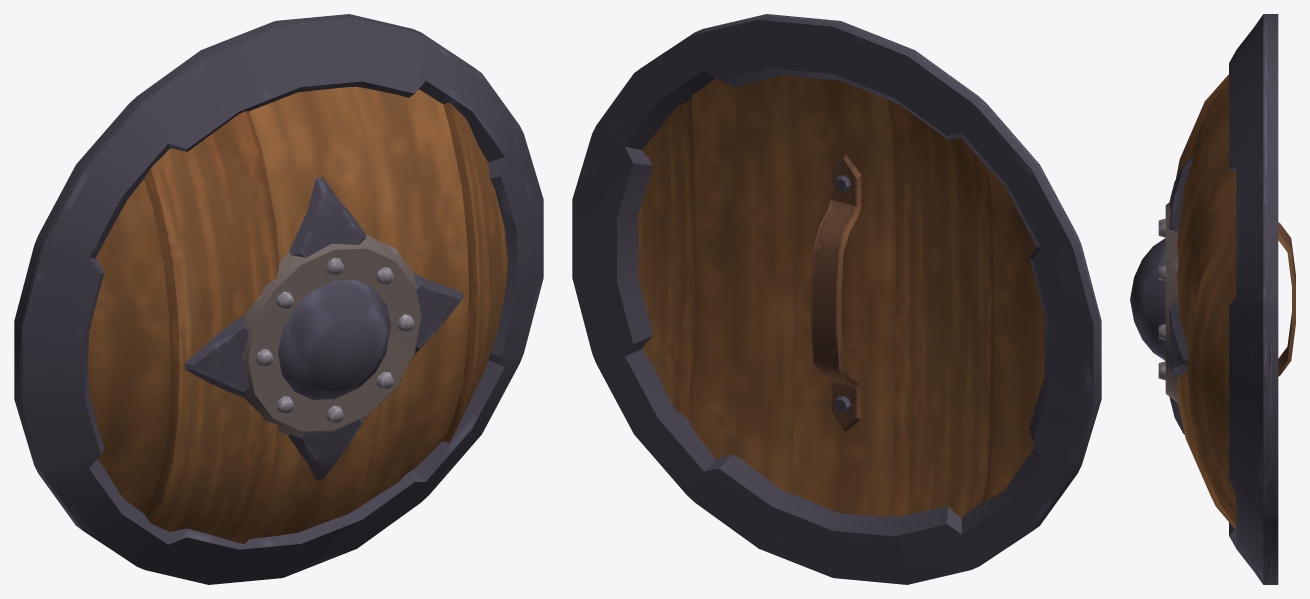
The model's file is shield_wooden.glb.
3 renders of one model, left to right at view 1: azimuth 30°, elevation 25°; view 2: azimuth 150°, elevation 25°; view 3: azimuth 270°, elevation 25°, orthographic. The views are drawn at different scales.
Parts seen in each view (by area): view 1: Shield_Wooden; view 2: Shield_Wooden; view 3: Shield_Wooden.
Part boxes in pixels (x1,y1,x2,y2): Shield_Wooden: [14, 14, 543, 584]; Shield_Wooden: [572, 14, 1101, 584]; Shield_Wooden: [1130, 14, 1295, 584].
Size of the model in its own units: 0.6146 by 0.6209 by 0.1788.
3 materials, 3 textured.
